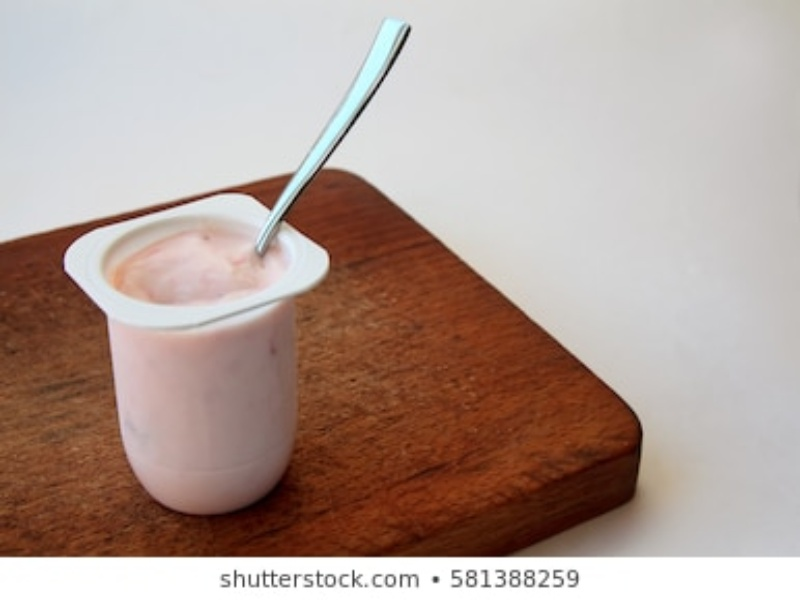yogurt-cup: (62, 188, 332, 519)
